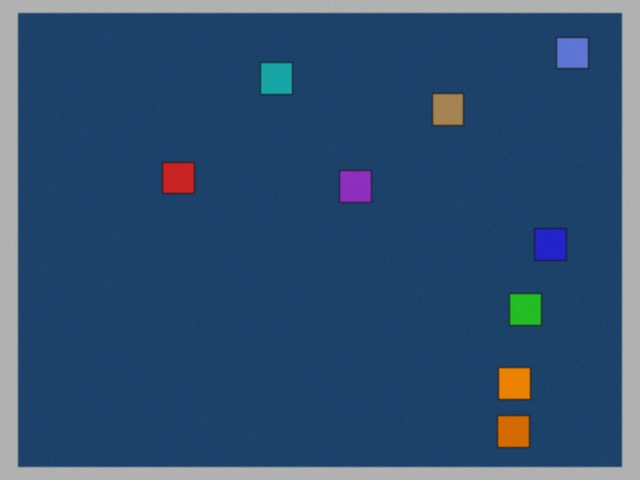block: (544, 37, 588, 78), (488, 406, 530, 447), (488, 361, 530, 399), (426, 93, 464, 131), (500, 291, 542, 325), (523, 228, 566, 260), (163, 162, 202, 196), (261, 63, 294, 103), (338, 170, 371, 204)
